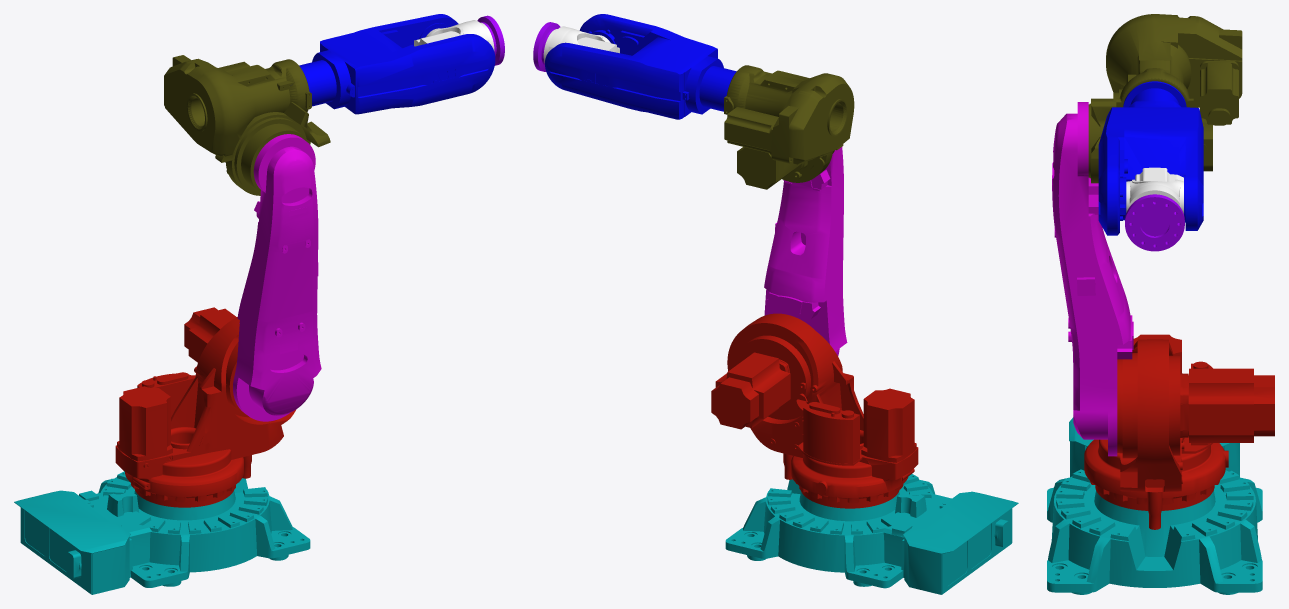
The model's file is IRB6620_Part1_2_3_4_5_6_7_Map_Axis2_fbx.fbx.
3 views of the same model, side by side, from view 1: azimuth 30°, elevation 25°; view 2: azimuth 150°, elevation 25°; view 3: azimuth 270°, elevation 25° (orthographic). The views are drawn at different scales.
Parts seen in each view (by area): view 1: IRB6620_Part1, IRB6620_Part2, IRB6620_Part3, IRB6620_Part5, IRB6620_Part4, IRB6620_Part6; view 2: IRB6620_Part2, IRB6620_Part1, IRB6620_Part5, IRB6620_Part4, IRB6620_Part3, IRB6620_Part6; view 3: IRB6620_Part2, IRB6620_Part1, IRB6620_Part3, IRB6620_Part4, IRB6620_Part5, IRB6620_Part7, IRB6620_Part6.
Part boxes in pixels (x1,y1,x2,y2): IRB6620_Part1: (14, 471, 310, 594); IRB6620_Part2: (115, 307, 296, 507); IRB6620_Part3: (233, 134, 321, 421); IRB6620_Part5: (299, 14, 495, 114); IRB6620_Part4: (164, 55, 330, 195); IRB6620_Part6: (414, 20, 494, 50); IRB6620_Part2: (711, 313, 918, 508); IRB6620_Part1: (725, 474, 1018, 594); IRB6620_Part5: (545, 14, 736, 119); IRB6620_Part4: (724, 65, 854, 189); IRB6620_Part3: (764, 147, 847, 355); IRB6620_Part6: (543, 26, 619, 62); IRB6620_Part2: (1084, 334, 1274, 529); IRB6620_Part1: (1047, 417, 1262, 594); IRB6620_Part3: (1052, 102, 1133, 456); IRB6620_Part4: (1088, 14, 1242, 183); IRB6620_Part5: (1098, 81, 1203, 235); IRB6620_Part7: (1125, 194, 1184, 251); IRB6620_Part6: (1126, 167, 1183, 213).
Bounding box in the file's own units: 20340 × 20180 × 7605.
